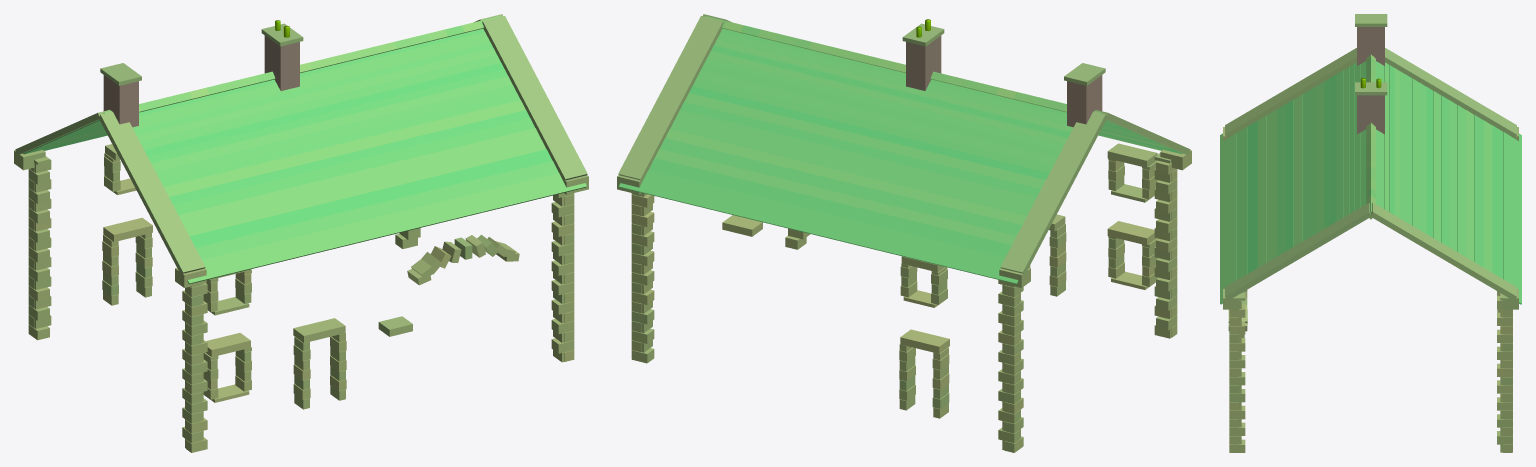
File: SM_Bld_154_Stone.glb
3 renders of one model, left to right at view 1: azimuth 30°, elevation 25°; view 2: azimuth 150°, elevation 25°; view 3: azimuth 270°, elevation 25°, orthographic. The views are drawn at different scales.
Parts seen in each view (by area): view 1: SM_Bld_154_Stone; view 2: SM_Bld_154_Stone; view 3: SM_Bld_154_Stone.
Boxes of the visible parts, bbox=[...] form: SM_Bld_154_Stone: bbox=[14, 14, 588, 452]; SM_Bld_154_Stone: bbox=[617, 14, 1191, 452]; SM_Bld_154_Stone: bbox=[1220, 14, 1521, 452].
Size of the model in its own units: 13.05 by 10.09 by 9.7.
